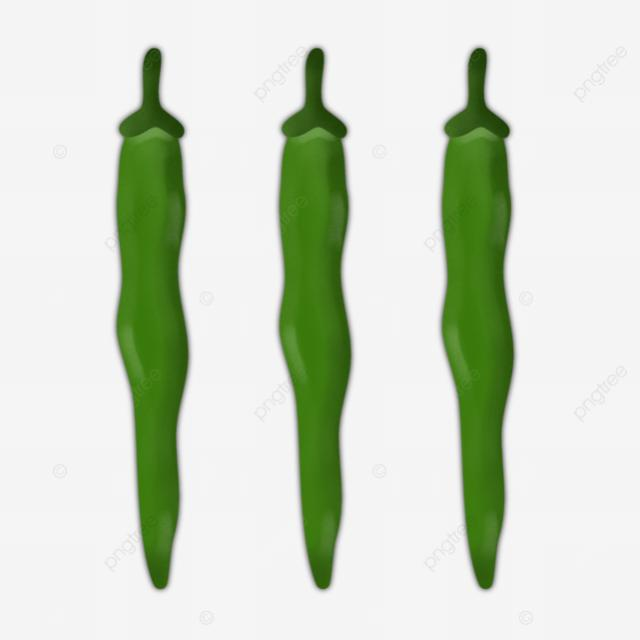green chilli: (399, 45, 576, 592), (232, 41, 389, 595), (73, 40, 225, 599)
